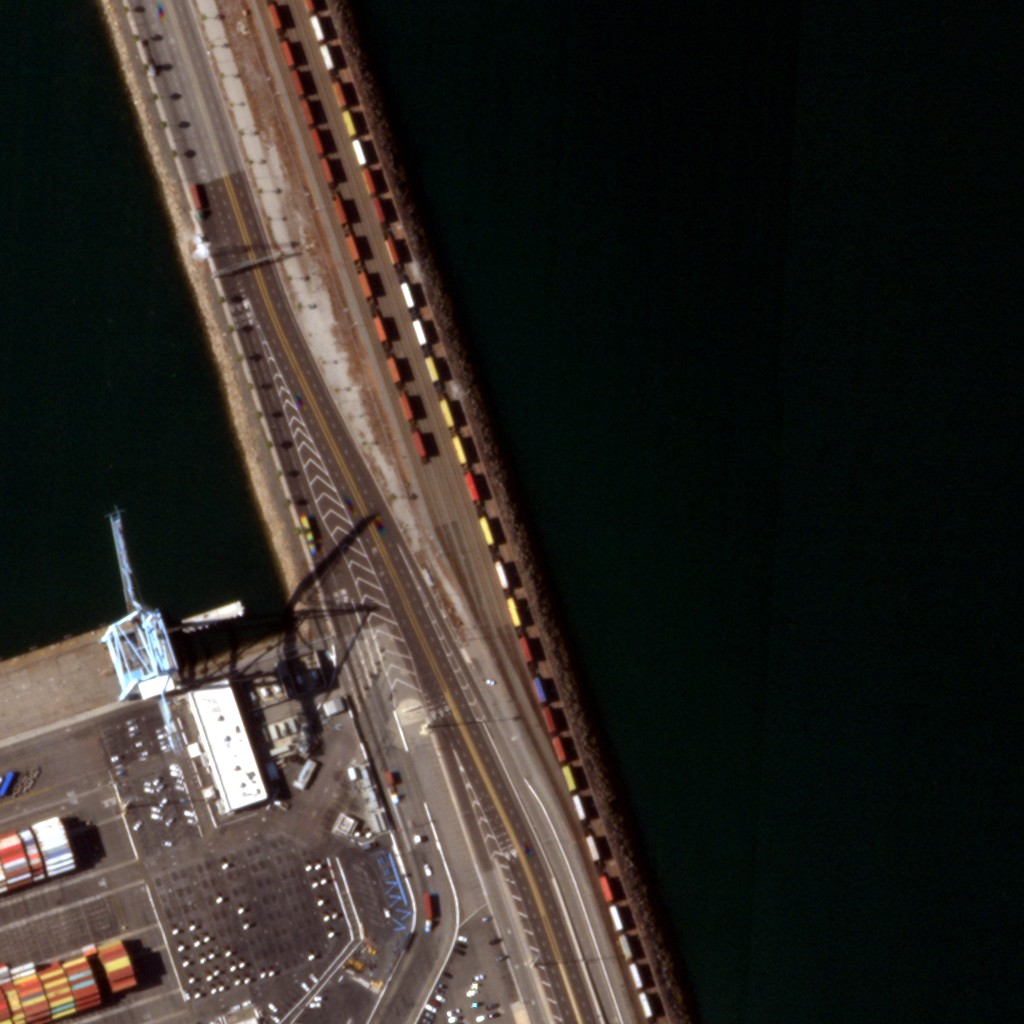cranes: (117, 515, 186, 705)
